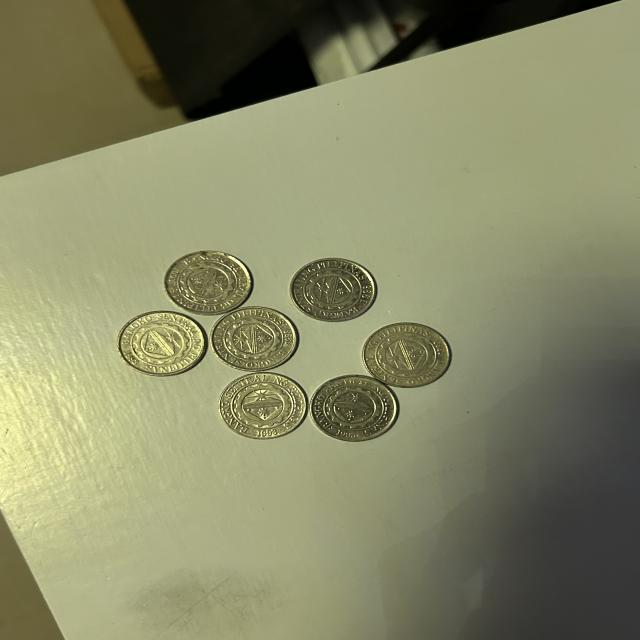1_Old_Back: (172, 258, 244, 308), (372, 330, 444, 380), (228, 382, 298, 433), (127, 317, 195, 369), (323, 382, 388, 435), (301, 264, 367, 316), (222, 311, 289, 362)
